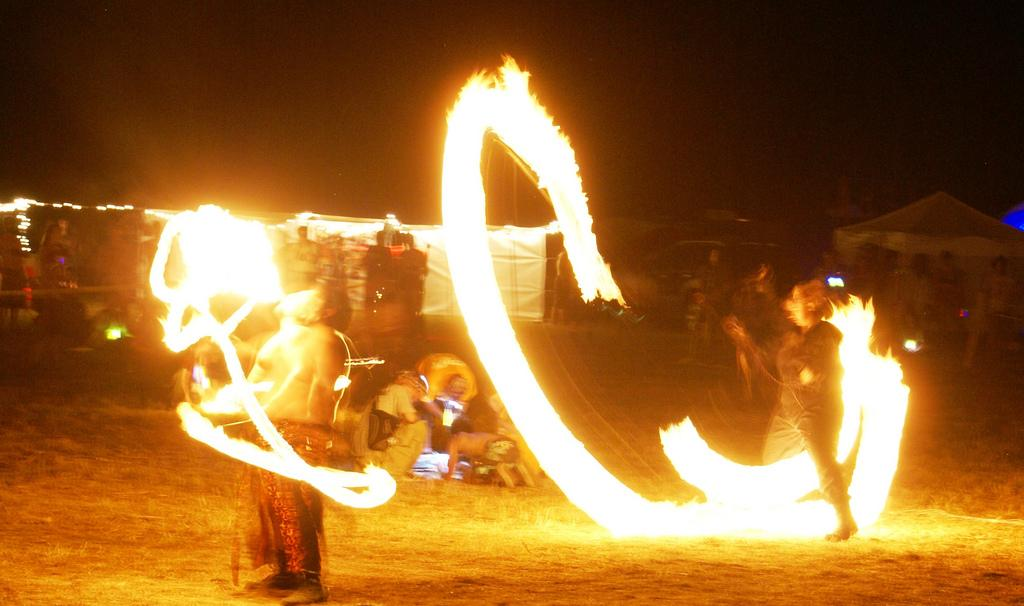fire: (170, 217, 278, 332), (682, 465, 830, 538), (848, 357, 905, 513), (473, 303, 530, 408), (273, 463, 398, 505), (473, 65, 518, 163), (575, 455, 617, 515), (563, 185, 593, 267)
